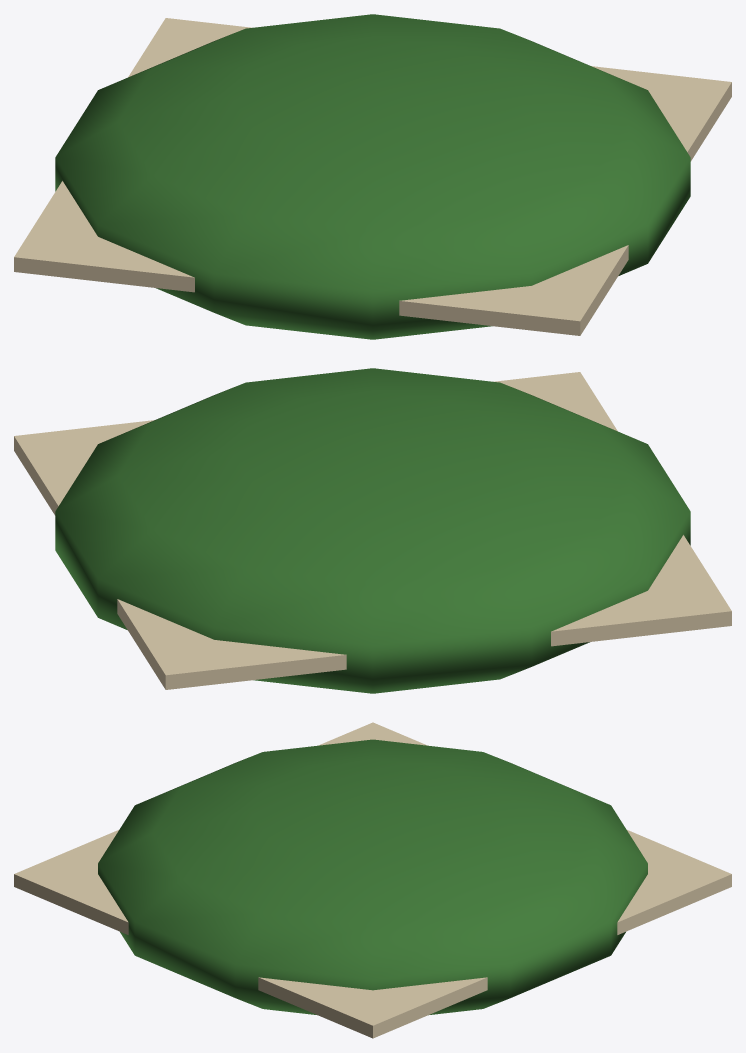
The model's file is cushion.glb.
3 renders of one model, top to bottom at view 1: azimuth 30°, elevation 25°; view 2: azimuth 150°, elevation 25°; view 3: azimuth 270°, elevation 25°, orthographic. The views are drawn at different scales.
Visible parts, largest first — view 1: Part0, Part1; view 2: Part0, Part1; view 3: Part0, Part1.
Part boxes in pixels (x1,y1,x2,y2): Part0: (55,14,690,339); Part1: (14,18,731,335); Part0: (55,368,690,693); Part1: (14,372,731,689); Part0: (98,739,647,1015); Part1: (14,722,731,1038).
Bounding box in the file's own units: 0.5091 × 0.12 × 0.5091.
